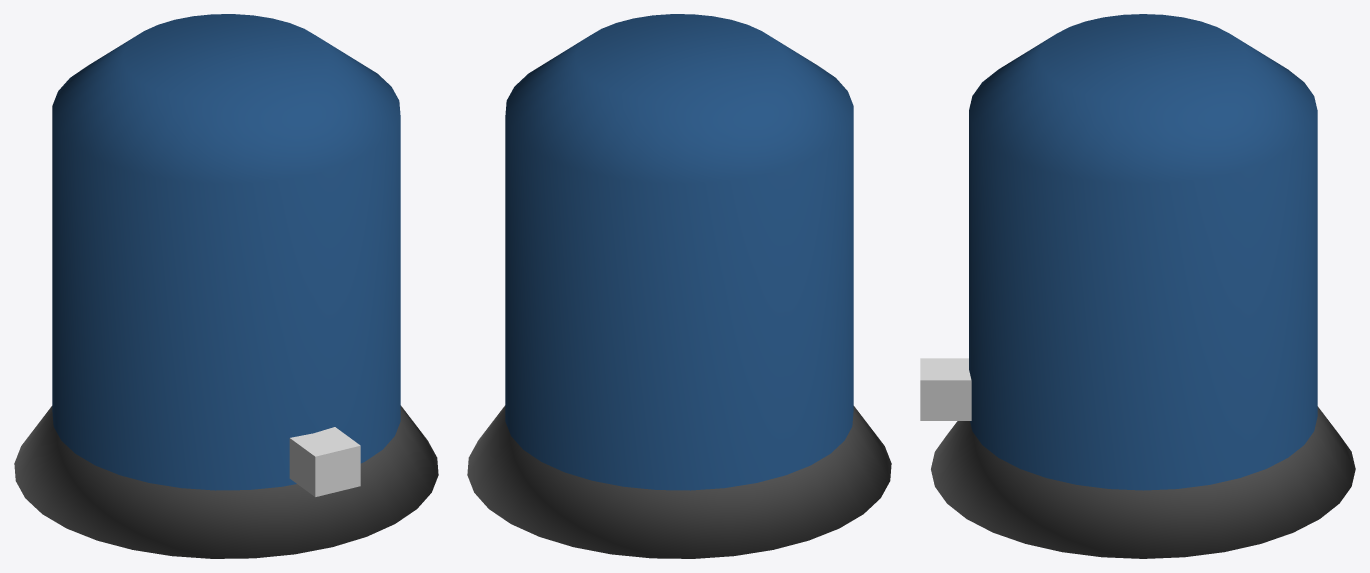
Rendered from Water.glb.
3 renders of one model, left to right at view 1: azimuth 30°, elevation 25°; view 2: azimuth 150°, elevation 25°; view 3: azimuth 270°, elevation 25°, orthographic.
Parts seen in each view (by area): view 1: Cylinder, Cube; view 2: Cylinder; view 3: Cylinder, Cube.
Boxes of the visible parts, bbox=[...] form: Cylinder: bbox=[14, 14, 438, 558]; Cube: bbox=[289, 427, 360, 496]; Cylinder: bbox=[467, 14, 891, 558]; Cylinder: bbox=[931, 14, 1355, 558]; Cube: bbox=[920, 358, 971, 420].
Bounding box in the file's own units: 2.51 × 2.68 × 2.58.
